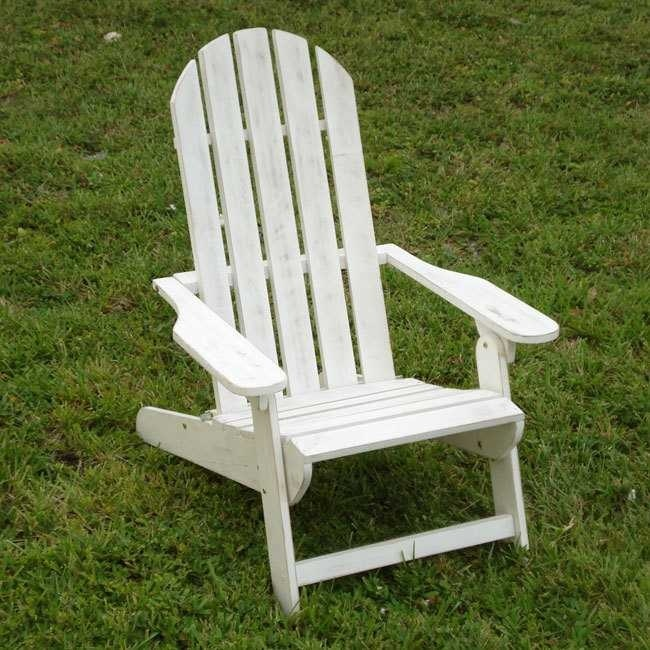obstacle: (137, 28, 558, 612)
